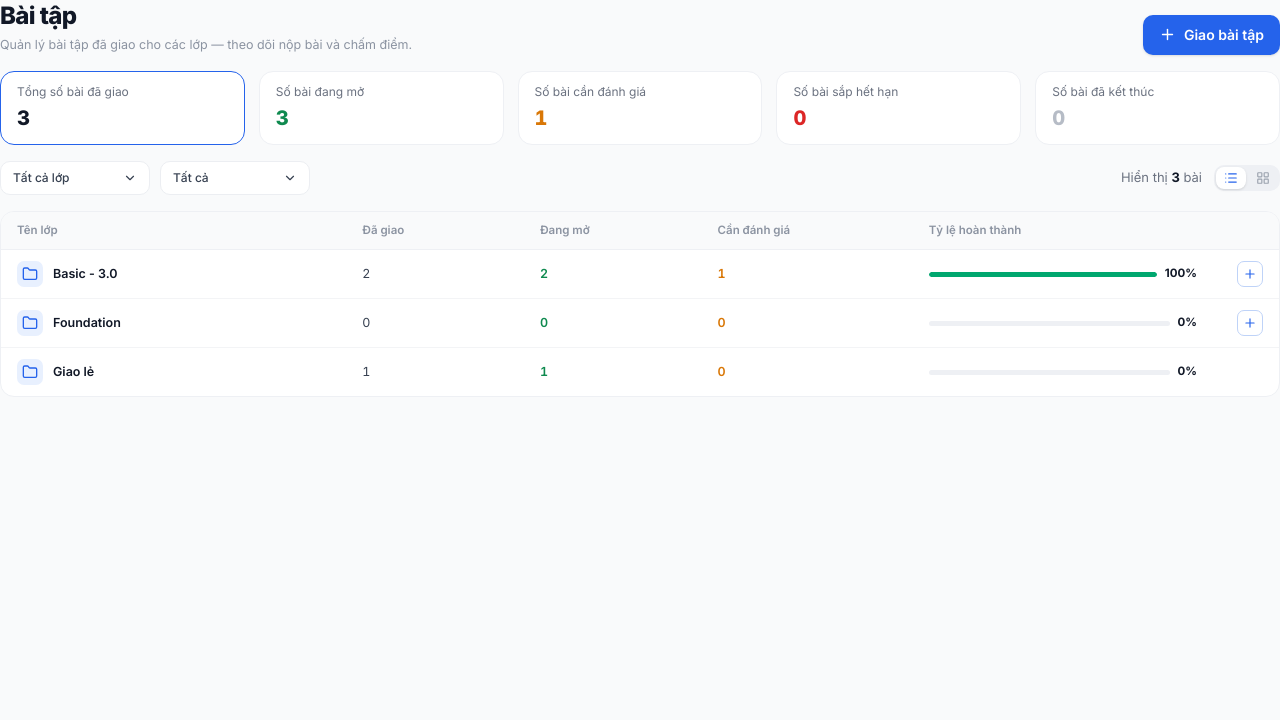
Scenario: AssignmentsPage › opens quick assign from the folder row without drilling in
Click the button with test id "class-folder-assign-c1" at (1250, 274), box [1237, 261, 1263, 287]
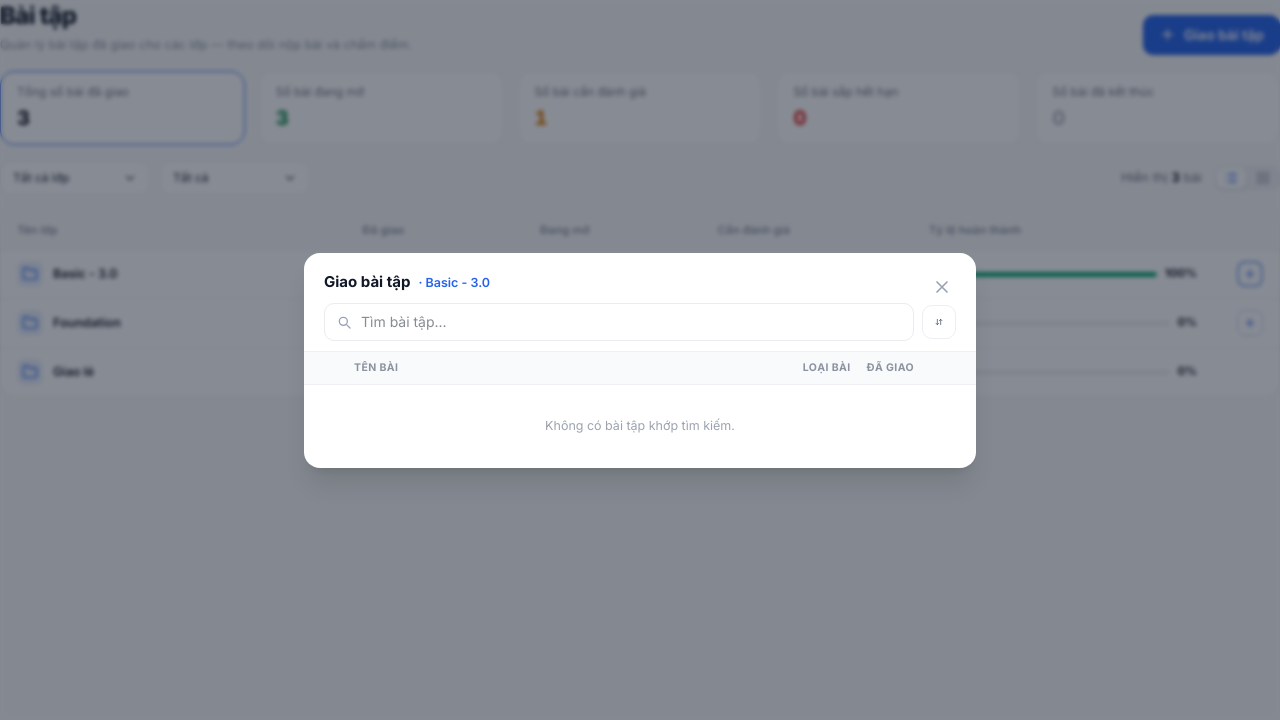
Expected: the text "· Basic - 3.0" is shown, [418, 274, 490, 292]
